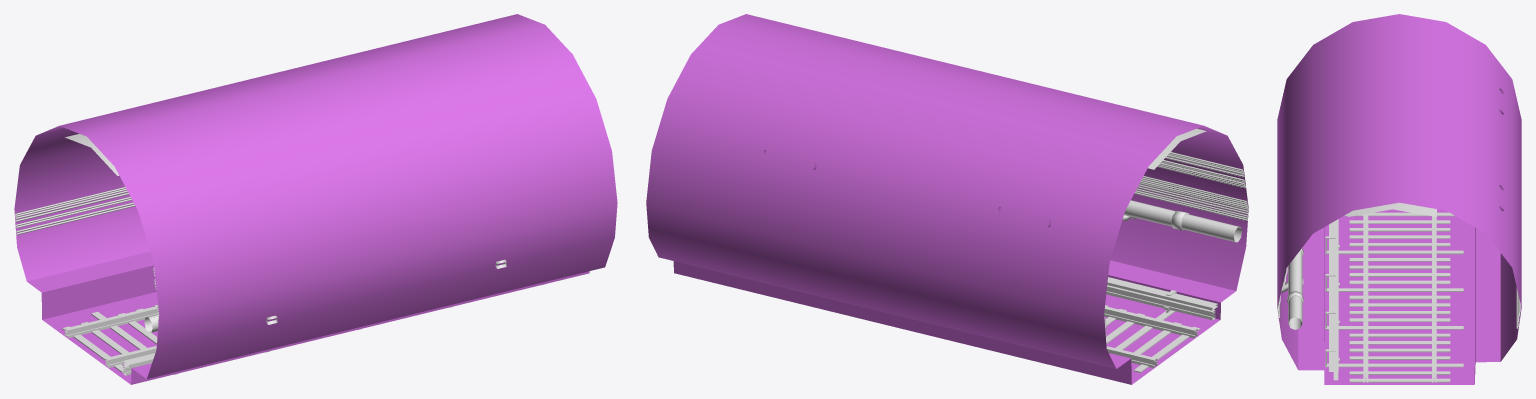
The model's file is TunnelStraight.fbx.
The picture shows the model from 3 angles, left to right: view 1: azimuth 30°, elevation 25°; view 2: azimuth 150°, elevation 25°; view 3: azimuth 270°, elevation 25°; orthographic projection. The views are drawn at different scales.
Visible parts, largest first — view 1: TunnelStraight, Rails, Tubes & Cables; view 2: TunnelStraight, Tubes & Cables, Rails; view 3: TunnelStraight, Rails, Tubes & Cables, WiresPlane.
Boxes of the visible parts, x1,y1,x2,y2 form: TunnelStraight: (14, 14, 617, 384); Rails: (62, 284, 544, 375); Tubes & Cables: (15, 187, 506, 332); TunnelStraight: (646, 14, 1248, 384); Tubes & Cables: (1104, 152, 1248, 336); Rails: (1104, 277, 1217, 372); TunnelStraight: (1277, 14, 1521, 384); Rails: (1325, 212, 1463, 382); Tubes & Cables: (1277, 247, 1520, 329); WiresPlane: (1347, 202, 1436, 216).
Bounding box in the file's own units: 10 × 4.52 × 5.47.
